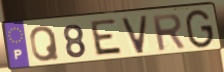8: (62, 24, 89, 59)
E: (90, 18, 125, 58)
G: (185, 9, 216, 51)
Q: (29, 25, 61, 64)
R: (150, 12, 187, 53)
V: (120, 14, 149, 56)
